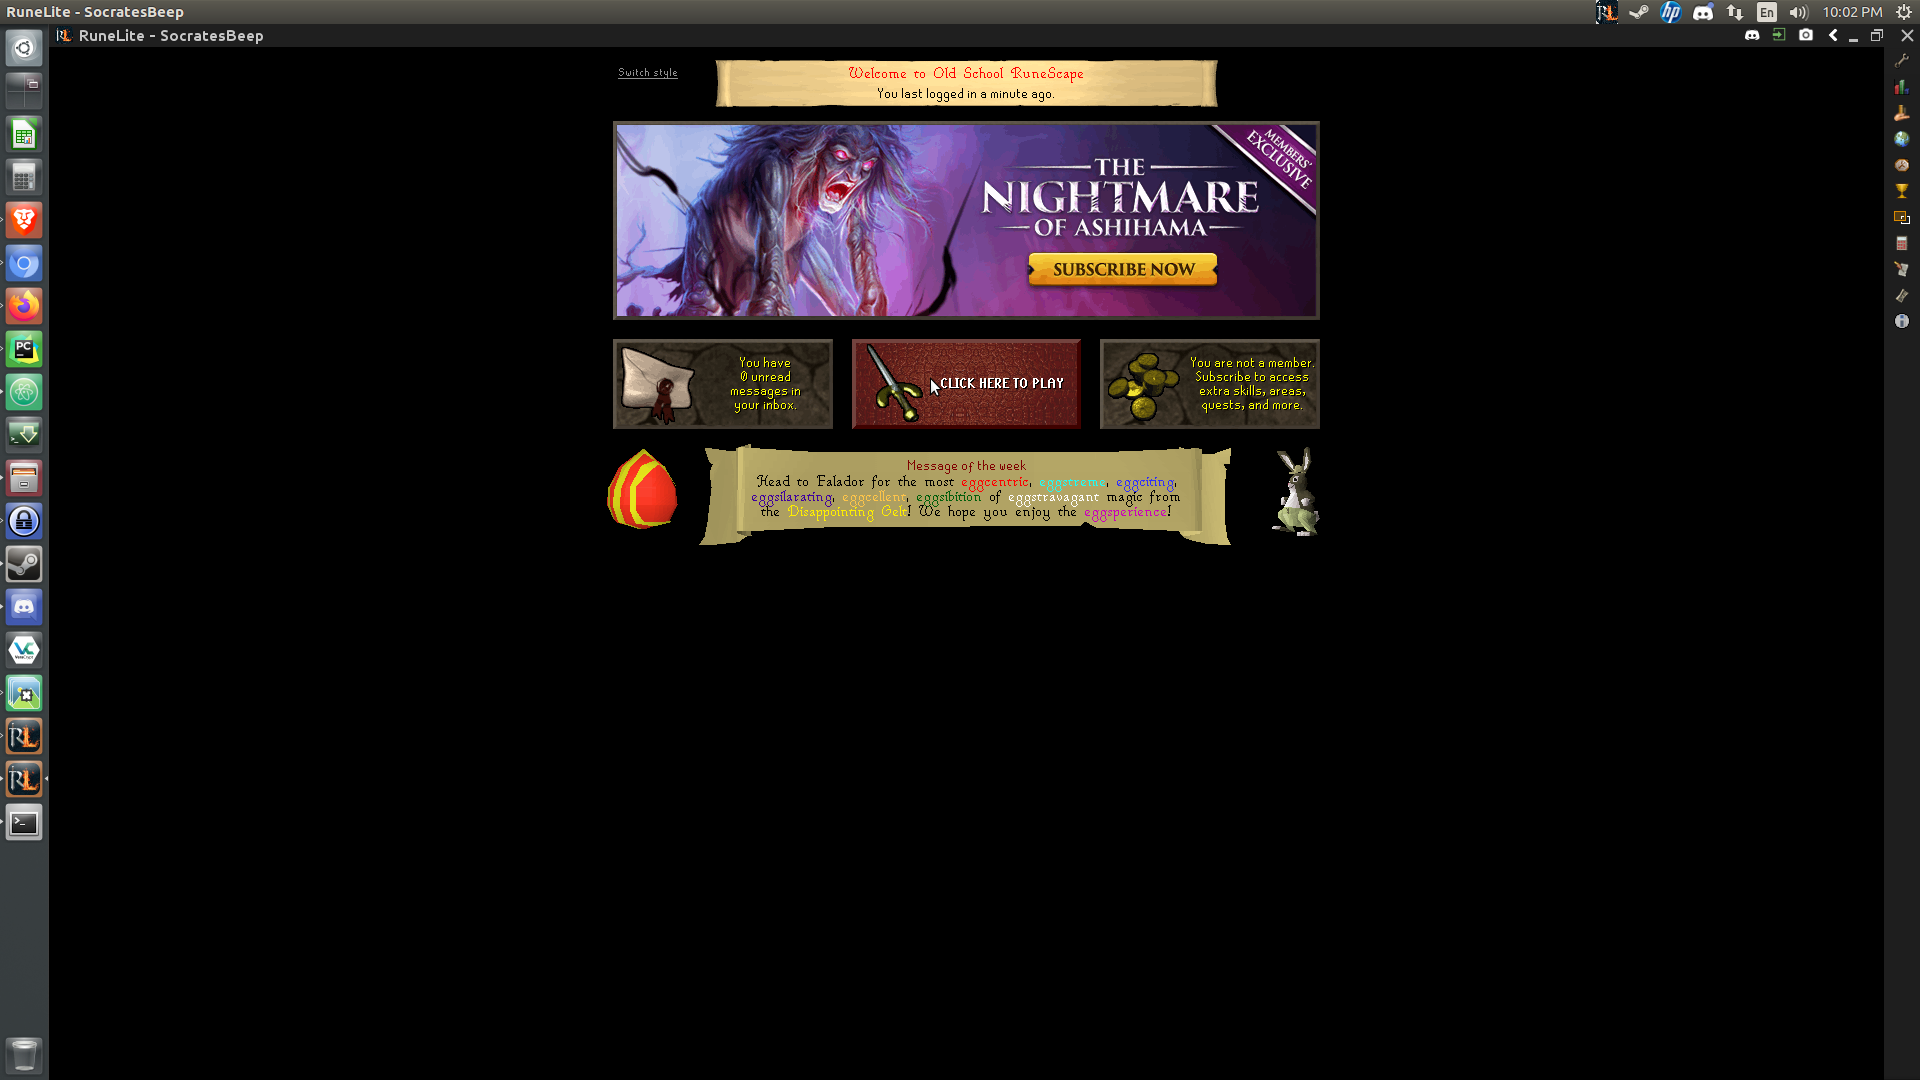cursor: (926, 377, 943, 397)
login_Play: (851, 338, 1062, 415)
